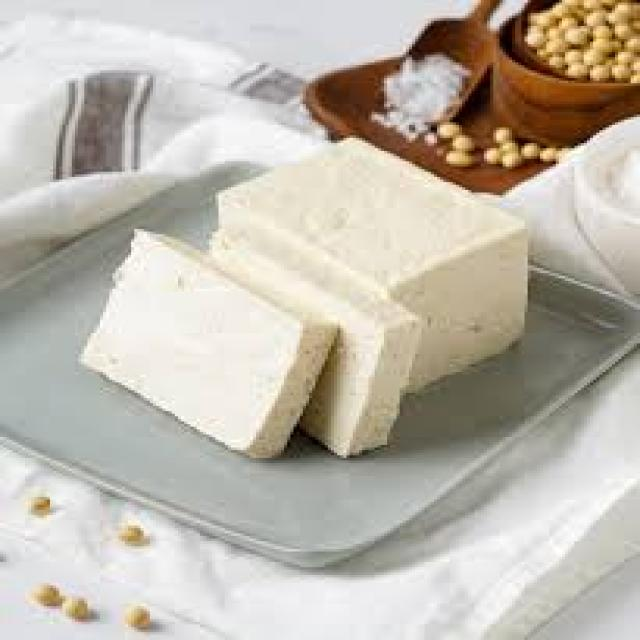tofu: (72, 141, 561, 468)
